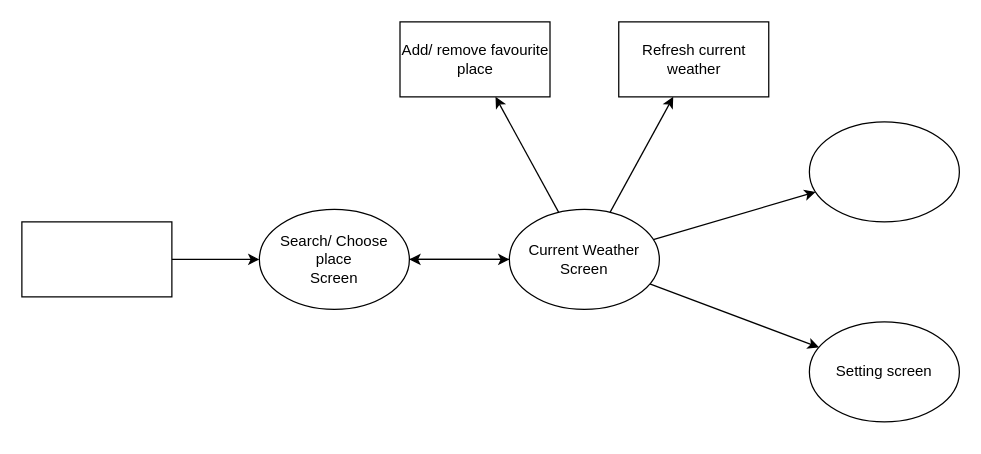
Some shapes in this 981 by 454 pixel diagram are drawn without their labels. The centre of each missing label's shape, as x and y in pixels:
History weather search screen: [883,171]
Start: [96,259]
